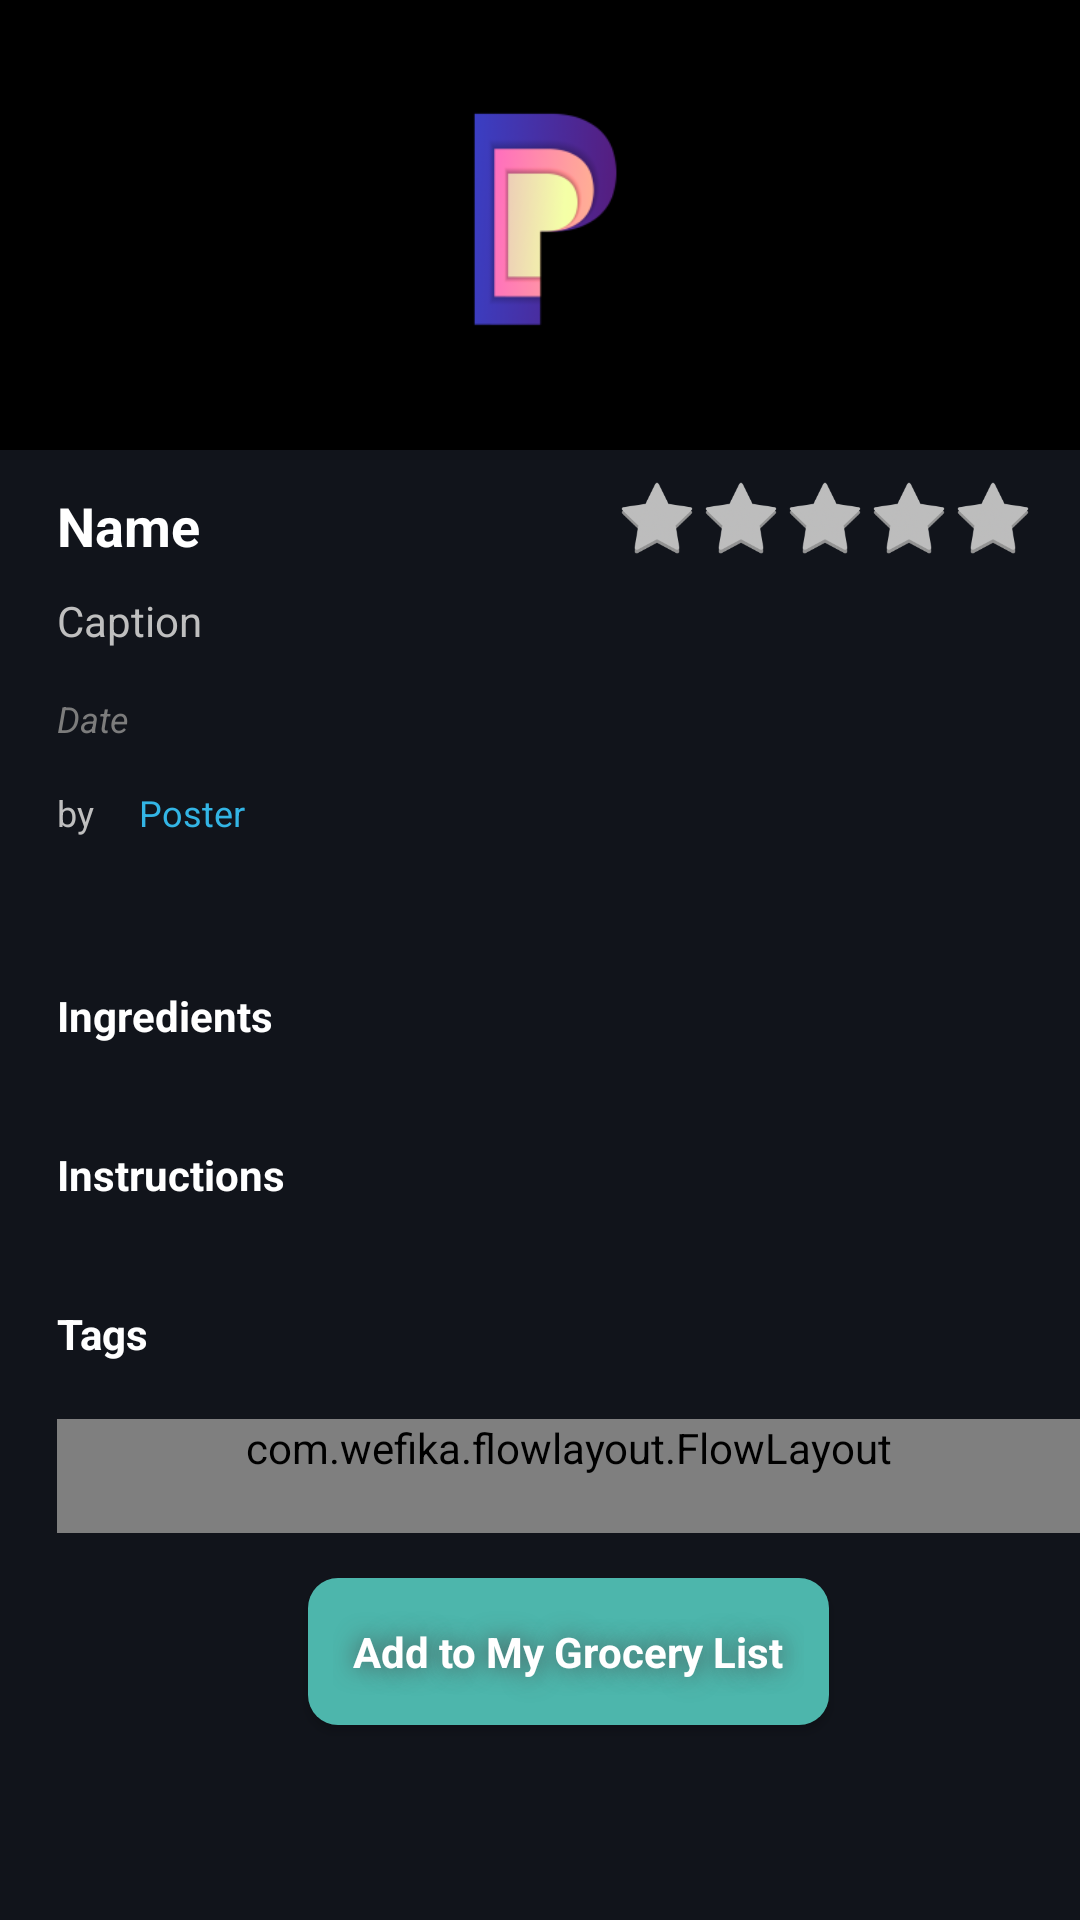

Locate icon controls on the screen. Image size 1080×1920, boxes as (x1, y1, x2, y2).
star tint: (622, 483, 692, 554), (706, 483, 776, 554), (790, 483, 860, 554), (874, 483, 944, 554), (958, 483, 1028, 554)
